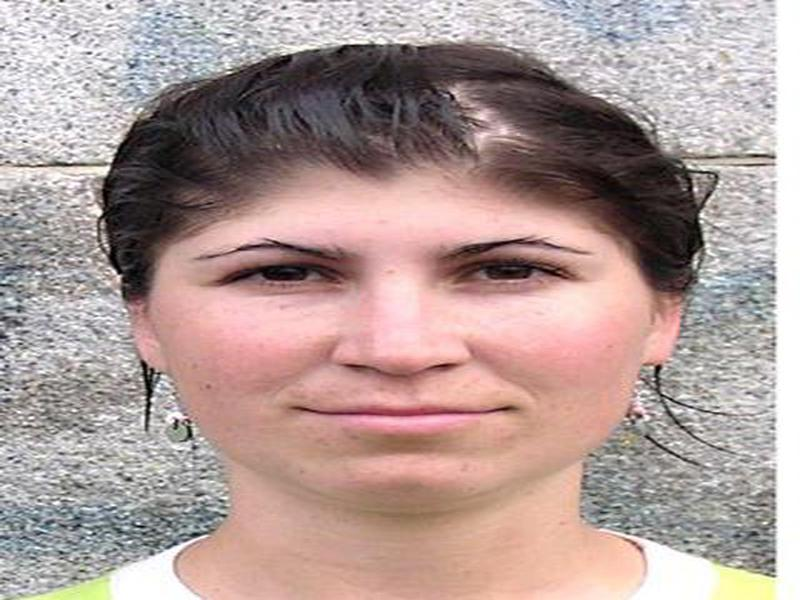without_mask: (139, 194, 650, 514)
